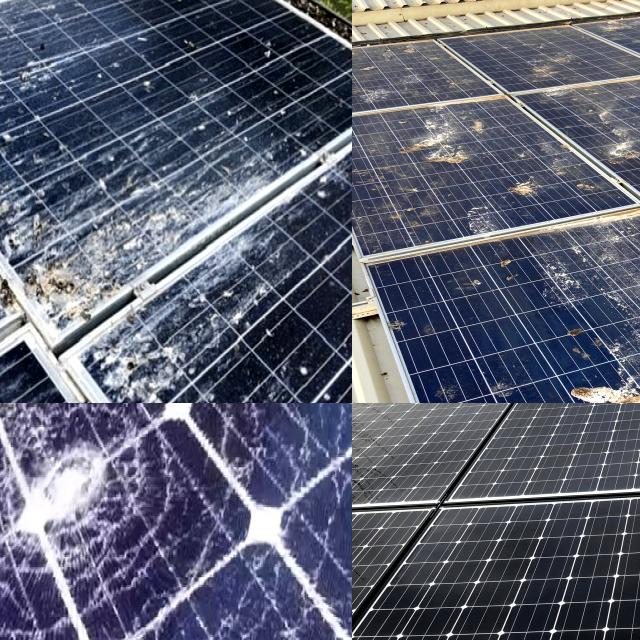bird: (99, 293, 188, 403), (383, 111, 524, 170), (21, 217, 84, 321), (220, 224, 273, 326), (535, 360, 640, 403), (483, 169, 582, 211), (517, 38, 580, 90), (600, 92, 633, 170), (0, 325, 47, 373), (26, 16, 57, 71), (0, 271, 33, 316), (0, 150, 24, 197), (122, 0, 160, 25), (0, 21, 15, 62), (0, 69, 11, 110)
crack: (434, 525, 560, 600), (541, 403, 640, 469), (561, 559, 640, 640), (385, 611, 588, 640)
hotspot: (0, 403, 137, 562)
